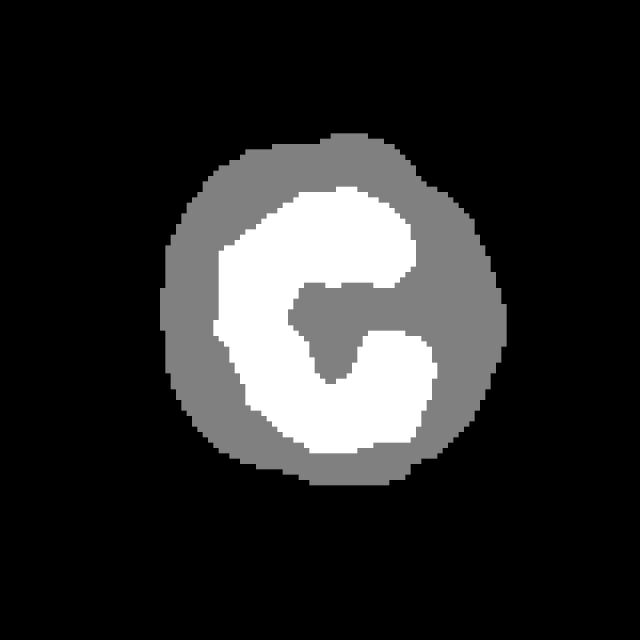WBC: (128, 112, 539, 507)
